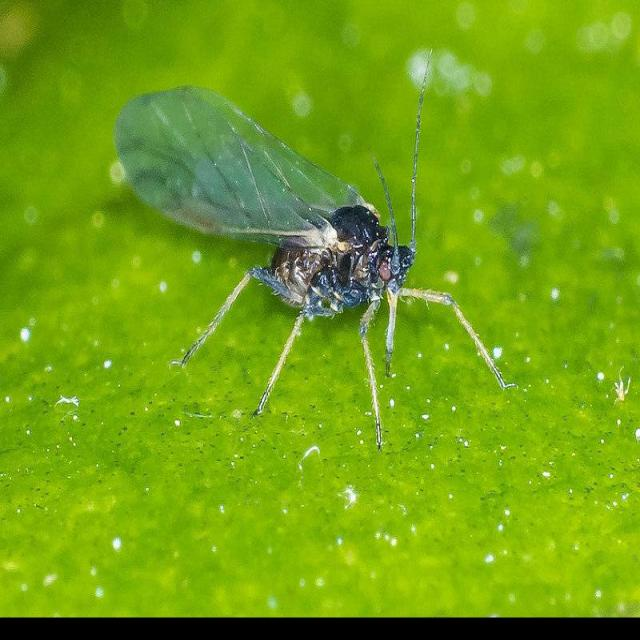Aphids: (112, 76, 516, 433)
